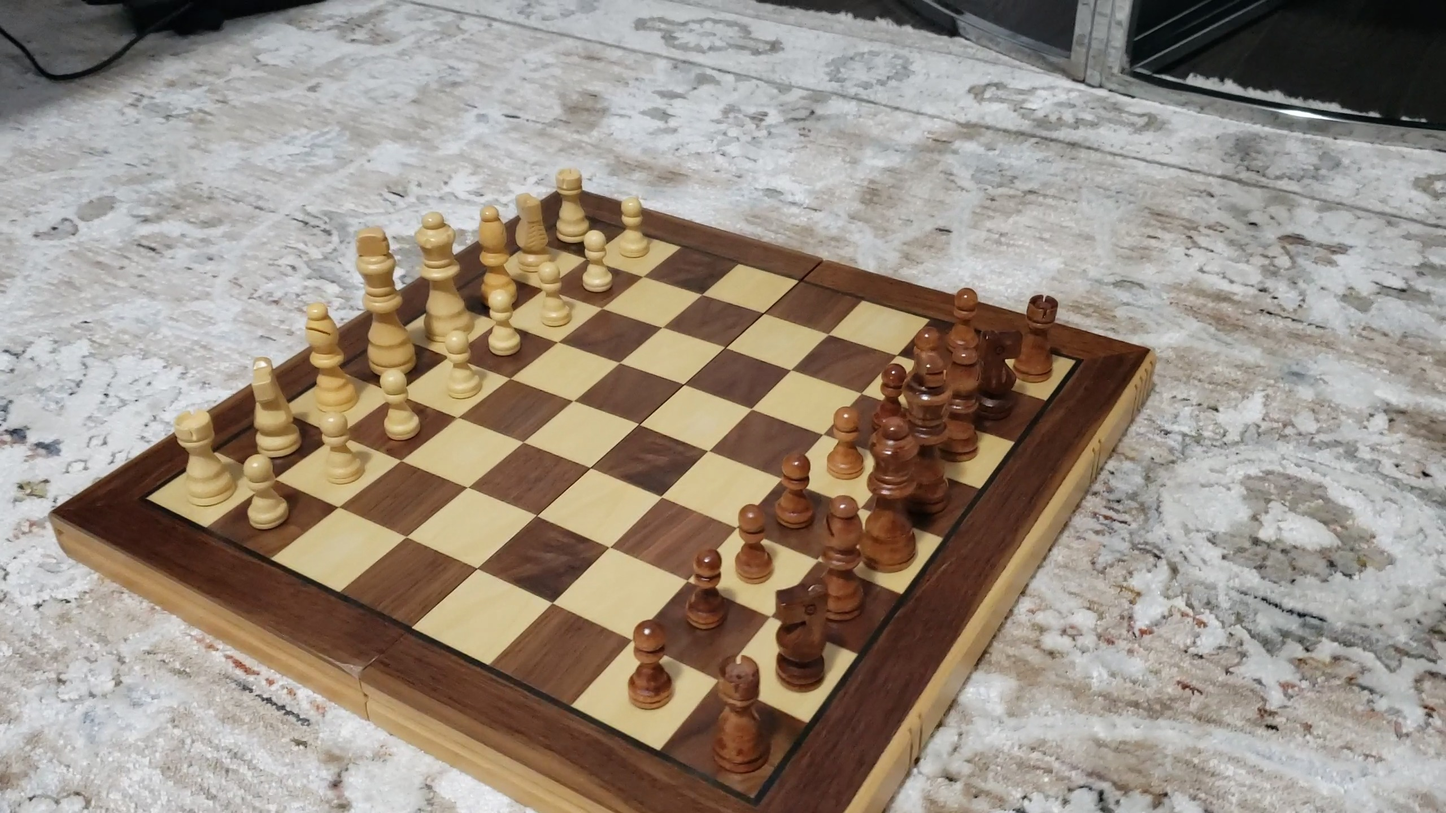black-bishop: (817, 492, 868, 621), (941, 339, 988, 466)
black-king: (894, 351, 965, 513)
black-knight: (769, 581, 833, 693), (979, 325, 1025, 422)
black-pawn: (625, 618, 674, 711), (682, 546, 730, 632), (731, 500, 775, 584), (770, 450, 816, 530), (824, 404, 868, 482), (943, 281, 983, 355), (870, 355, 910, 419), (902, 321, 945, 356)
black-queen: (851, 414, 939, 576)
black-rook: (711, 653, 769, 777), (1014, 291, 1061, 382)
white-bishop: (301, 298, 358, 411), (474, 202, 512, 310)
white-king: (353, 222, 412, 377)
white-knight: (247, 355, 301, 458), (509, 189, 553, 281)
white-pawn: (236, 452, 295, 536), (311, 409, 369, 489), (373, 366, 426, 445), (434, 328, 486, 404), (527, 256, 577, 331), (478, 284, 526, 362), (576, 225, 619, 298), (613, 191, 653, 263)
white-queen: (415, 208, 473, 348)
white-rook: (169, 406, 236, 509), (551, 164, 592, 246)
